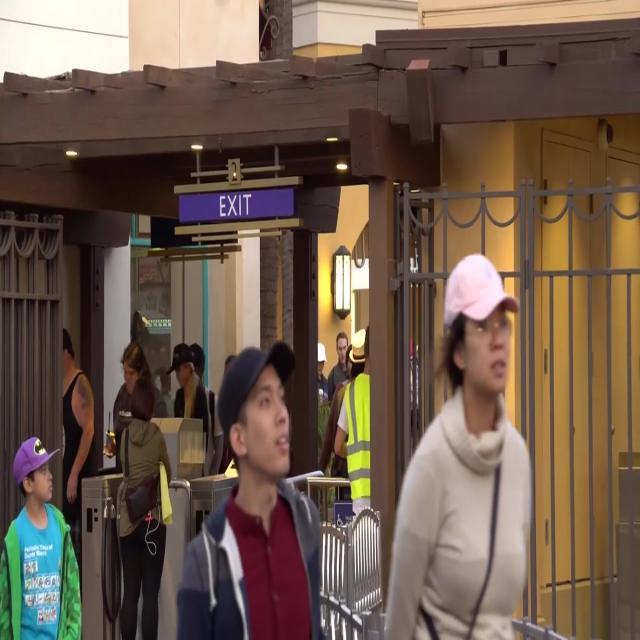Reflective-Jacket: (342, 370, 372, 502)
